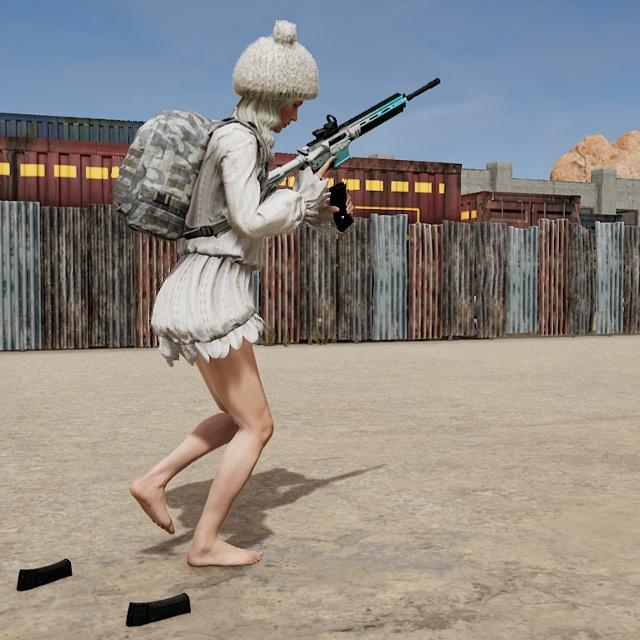head: (223, 23, 323, 143)
people: (114, 24, 339, 571)
